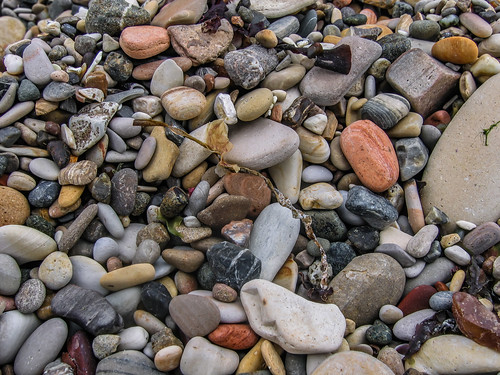rocks: (1, 1, 500, 375)
